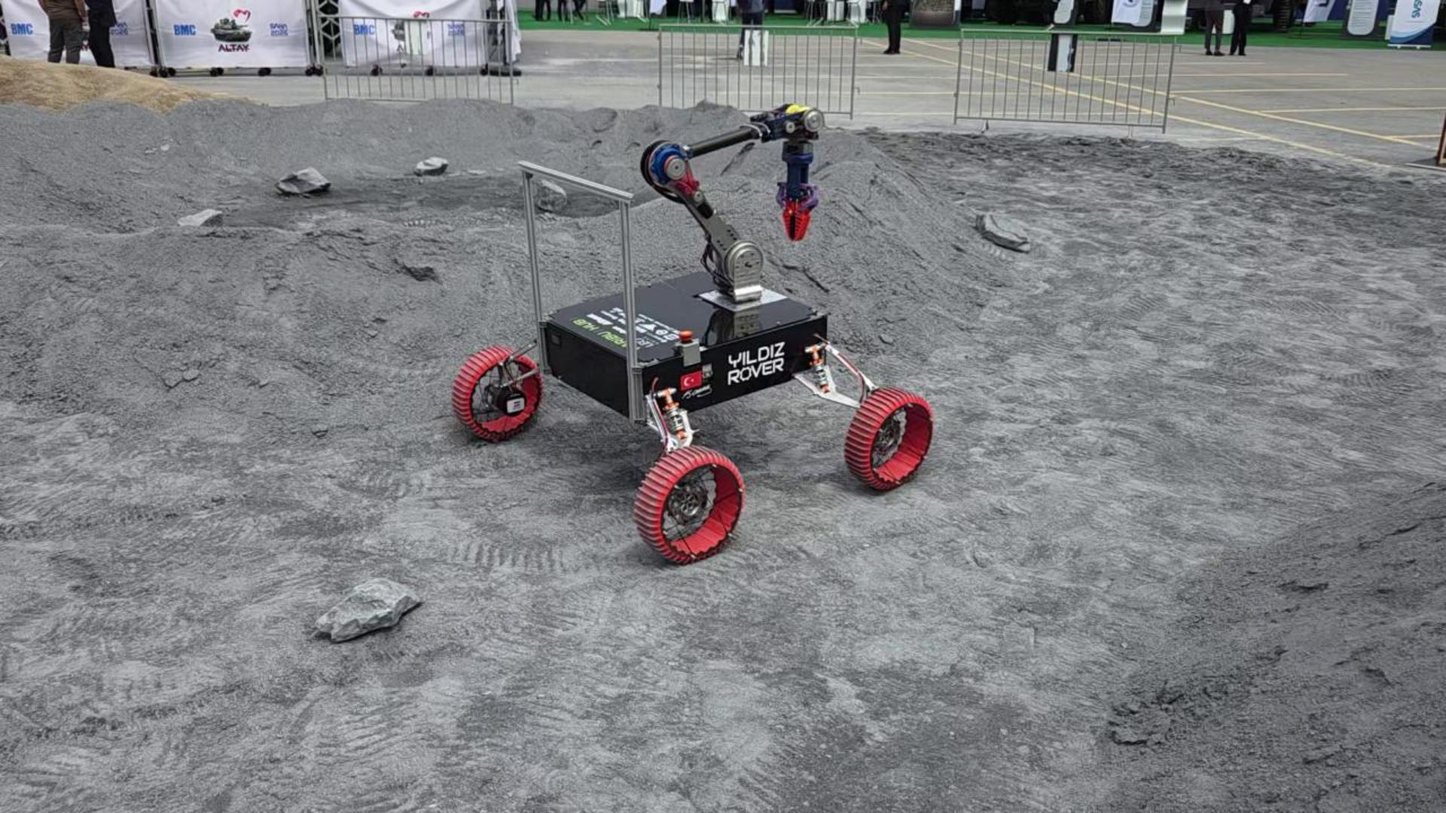rock: (314, 578, 421, 641), (976, 211, 1029, 252), (276, 167, 330, 194), (535, 180, 567, 212), (177, 209, 221, 227), (413, 157, 447, 175)
